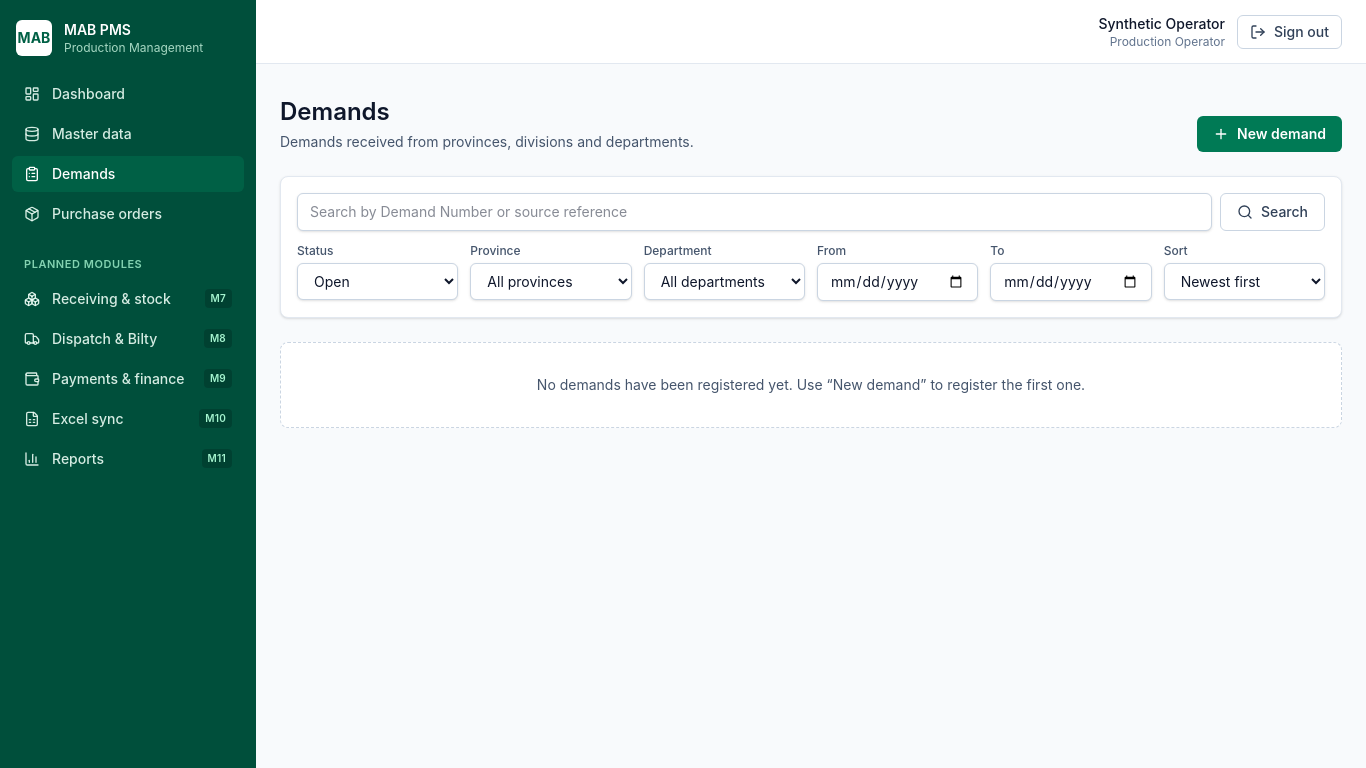
Demands list › distinguishes an empty register from an empty filter result
The width and height of the screenshot is (1366, 768).
Expected: the text "No demands have been registered yet" is shown, [537,376,793,393]
Type "nothing" into the search field named "Search demands" at [754, 212], box [297,193,1212,231]
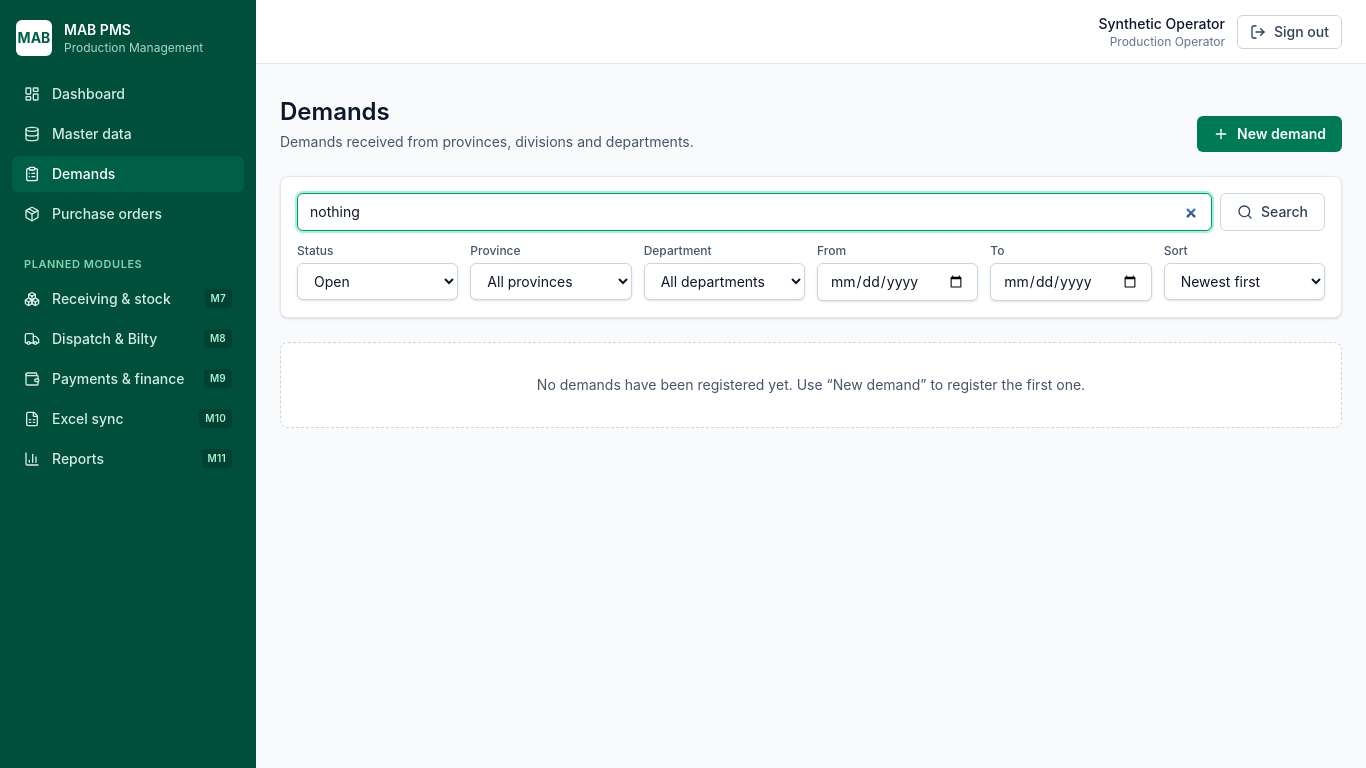
Click the button "Search" at [1272, 212], box [1220,193,1325,231]
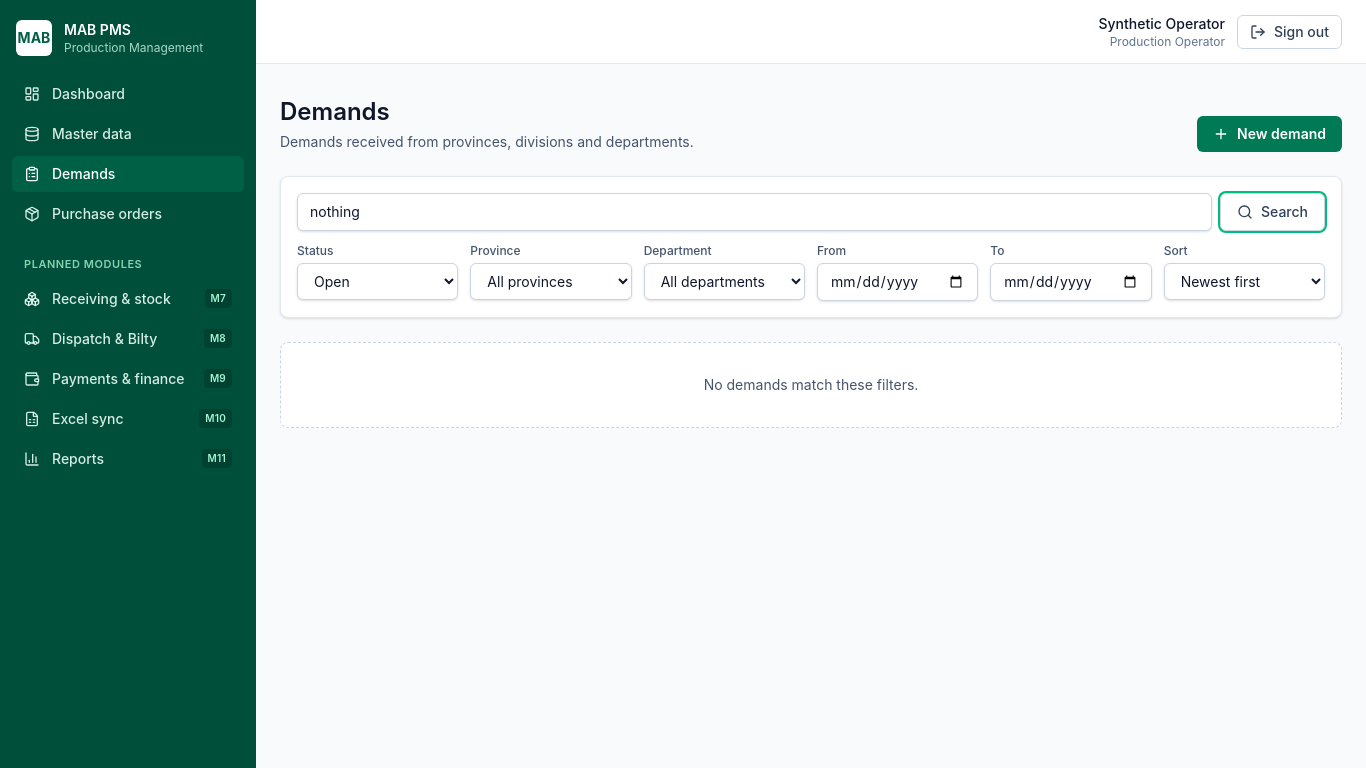
Expected: the text "No demands match these filters." is shown, [280,342,1342,428]
